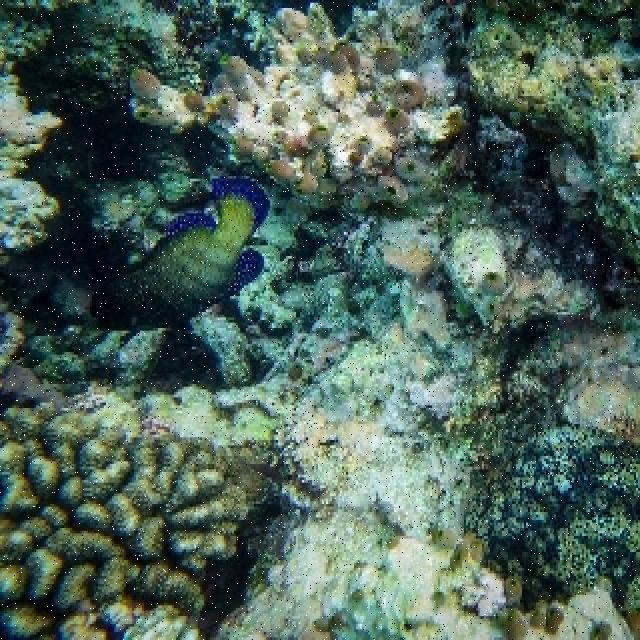reefs: (128, 0, 462, 194), (0, 413, 280, 637), (461, 421, 638, 611), (109, 177, 274, 330)
